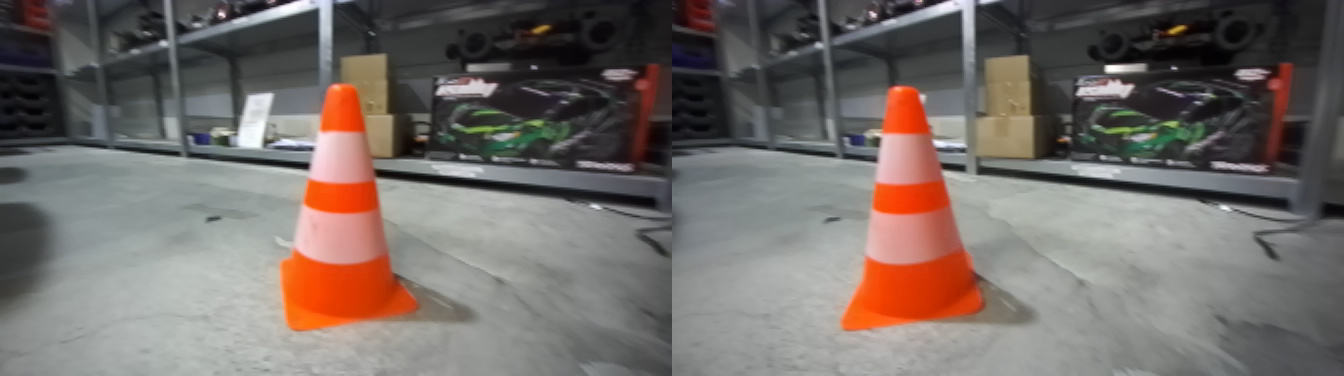cone: (829, 90, 994, 338), (279, 88, 426, 346)
